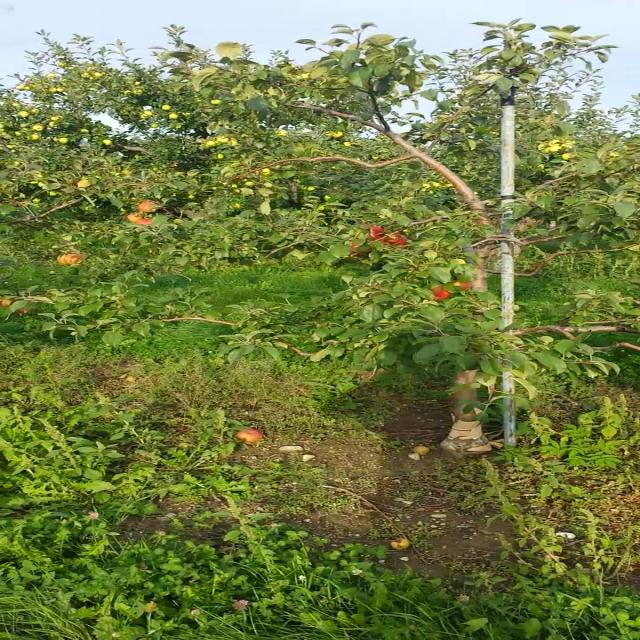apple: (383, 234, 407, 248), (433, 287, 451, 301), (364, 227, 385, 239), (56, 254, 81, 264), (452, 280, 471, 292), (126, 212, 143, 224), (138, 202, 156, 212), (1, 299, 15, 307), (135, 219, 153, 225), (351, 242, 359, 252), (17, 308, 26, 314)
